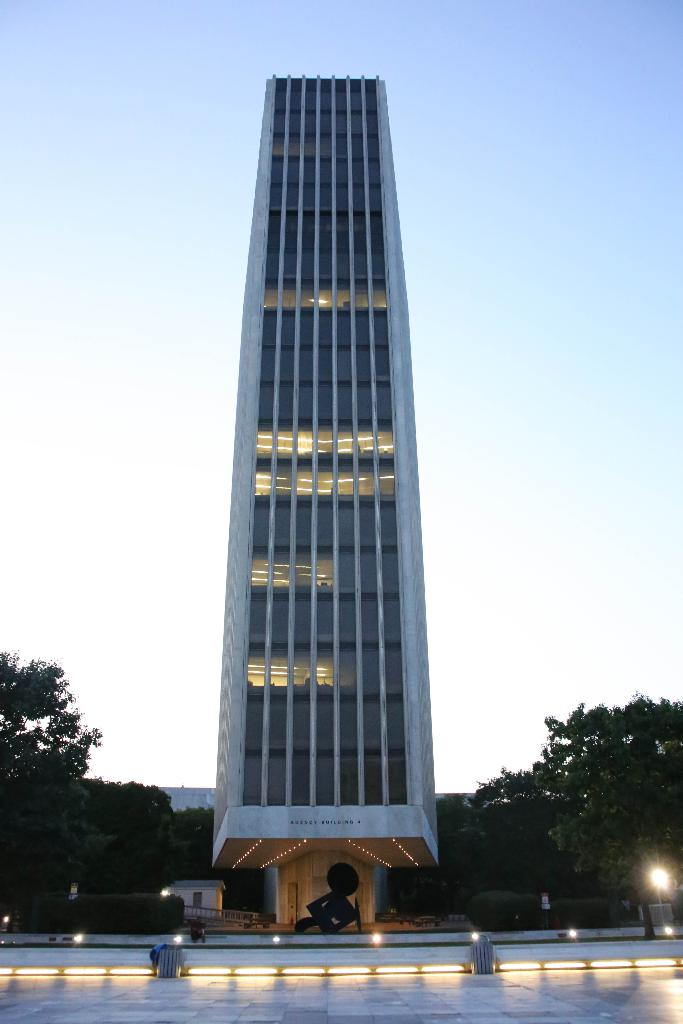Tree: (0, 651, 202, 945), (460, 668, 677, 931)
